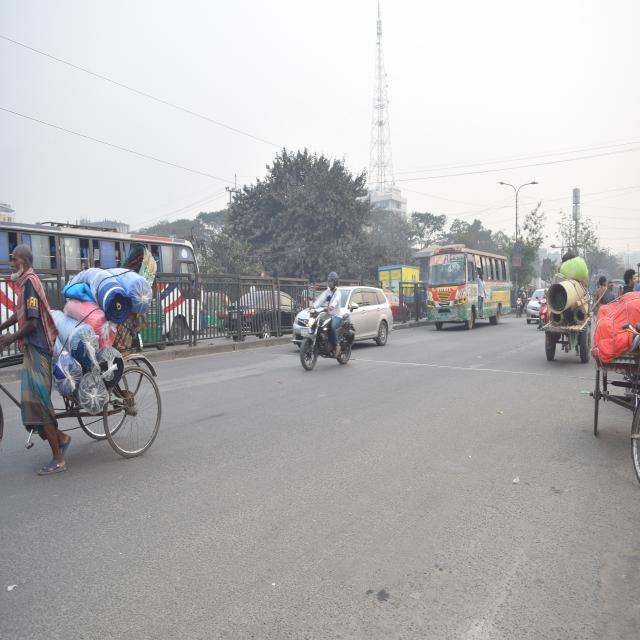bus: (0, 202, 208, 367), (426, 243, 522, 344)
car: (284, 269, 406, 360), (225, 285, 310, 342), (525, 287, 550, 335)
motorbike: (293, 273, 366, 406)
